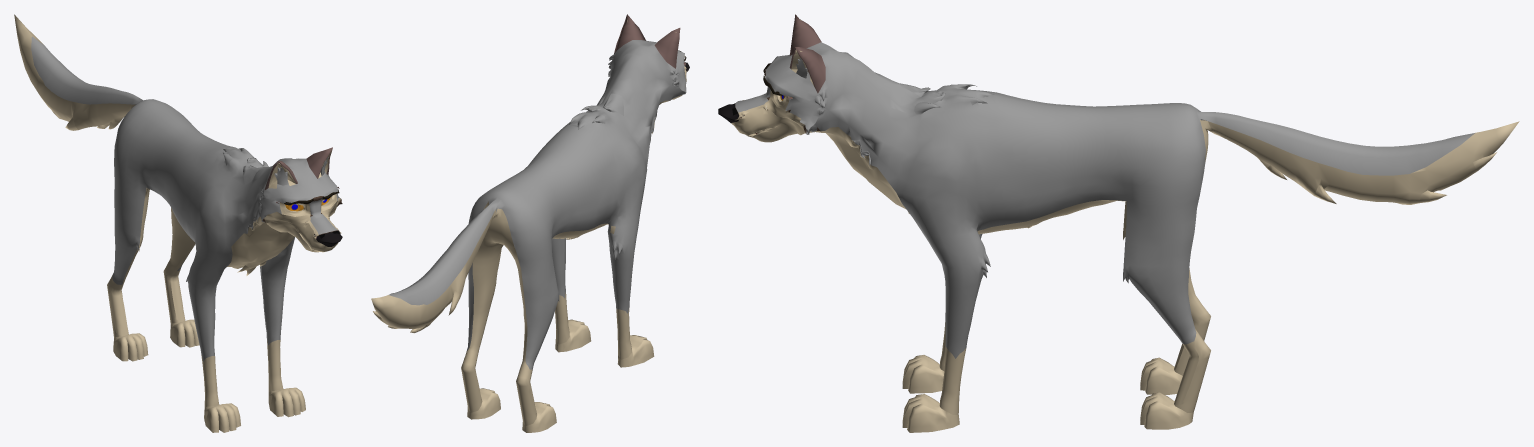
The model's file is Perro.obj.
3 renders of one model, left to right at view 1: azimuth 30°, elevation 25°; view 2: azimuth 150°, elevation 25°; view 3: azimuth 270°, elevation 25°, orthographic. The views are drawn at different scales.
Parts seen in each view (by area): view 1: only_bal19, only_bal24, only_bal21, only_bal25; view 2: only_bal19, only_bal24, only_bal25; view 3: only_bal19, only_bal24, only_bal25, only_bal21.
Boxes of the visible parts, x1,y1,x2,y2 form: only_bal19: (31, 36, 341, 361); only_bal24: (14, 14, 341, 432); only_bal21: (109, 104, 340, 335); only_bal25: (264, 147, 332, 189); only_bal19: (389, 40, 686, 369); only_bal24: (371, 20, 686, 432); only_bal25: (614, 14, 680, 68); only_bal19: (735, 42, 1474, 358); only_bal24: (731, 20, 1519, 432); only_bal25: (789, 14, 825, 93); only_bal21: (738, 69, 1198, 405).
Size of the model in its own units: 0.5603 by 1.73 by 3.35.
